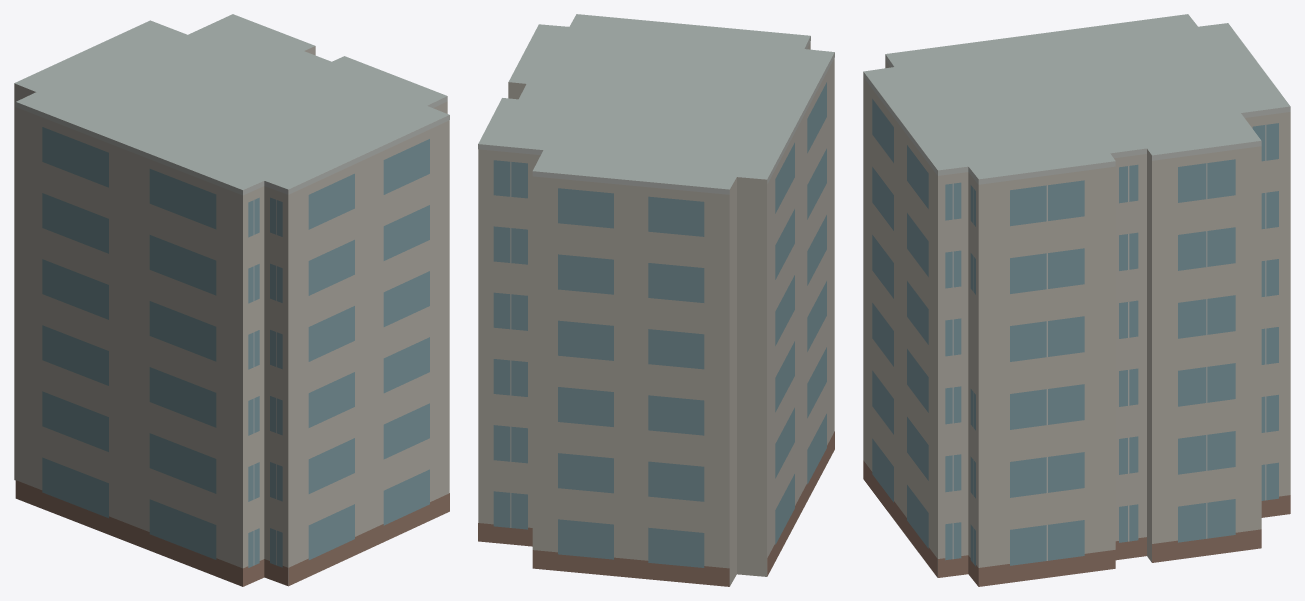
The model's file is survey-upis-32634499.glb.
The picture shows the model from 3 angles, left to right: view 1: azimuth 30°, elevation 25°; view 2: azimuth 150°, elevation 25°; view 3: azimuth 270°, elevation 25°; orthographic projection. The views are drawn at different scales.
Parts seen in each view (by area): view 1: survey-upis-32634499.tmp; view 2: survey-upis-32634499.tmp; view 3: survey-upis-32634499.tmp.
Part boxes in pixels (left/top/right/bottom): survey-upis-32634499.tmp: left=14, top=14, right=449, bottom=586; survey-upis-32634499.tmp: left=478, top=14, right=834, bottom=586; survey-upis-32634499.tmp: left=863, top=14, right=1290, bottom=586.
Size of the model in its own units: 15.93 by 18.3 by 17.4.
